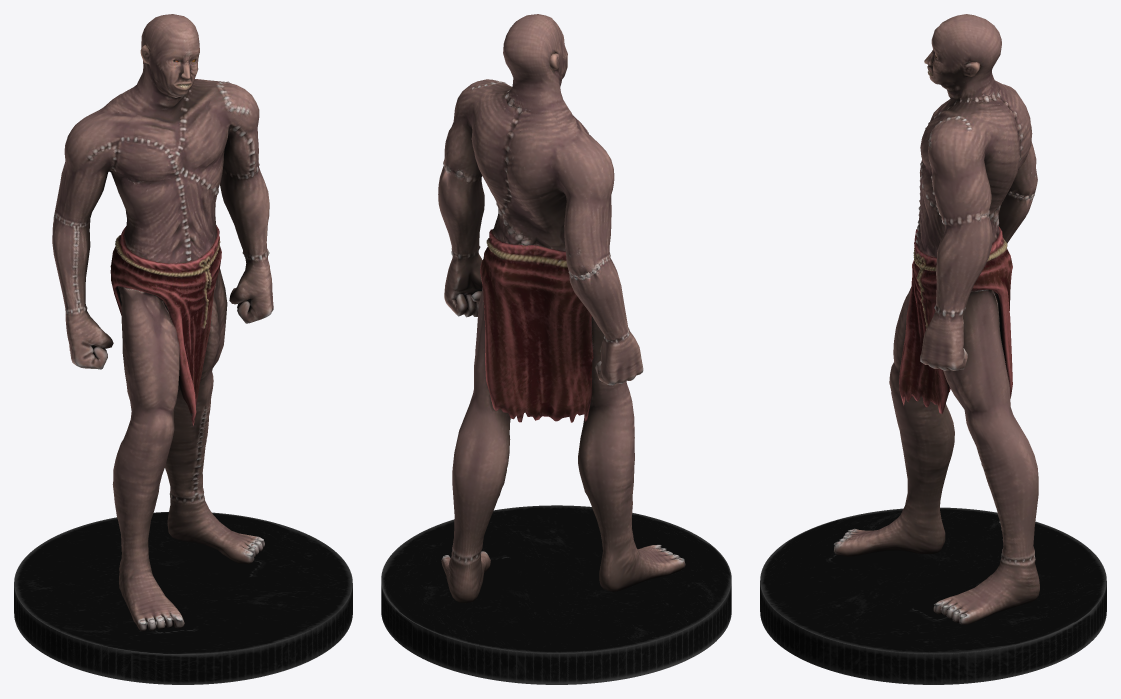
The model's file is MZ4250 - Flesh Golem.glb.
The picture shows the model from 3 angles, left to right: view 1: azimuth 30°, elevation 25°; view 2: azimuth 150°, elevation 25°; view 3: azimuth 270°, elevation 25°; orthographic projection. The views are drawn at different scales.
Visible parts, largest first — view 1: body_low.001, base_low.001; view 2: body_low.001, base_low.001; view 3: body_low.001, base_low.001.
Part boxes in pixels (left/top/right/bottom): body_low.001: left=52, top=14, right=273, bottom=631; base_low.001: left=14, top=512, right=352, bottom=684; body_low.001: left=438, top=14, right=685, bottom=603; base_low.001: left=381, top=505, right=731, bottom=684; body_low.001: left=834, top=14, right=1039, bottom=625; base_low.001: left=760, top=507, right=1106, bottom=684.
Size of the model in its own units: 3.53 by 6.71 by 3.53.
1 material, 1 textured.
